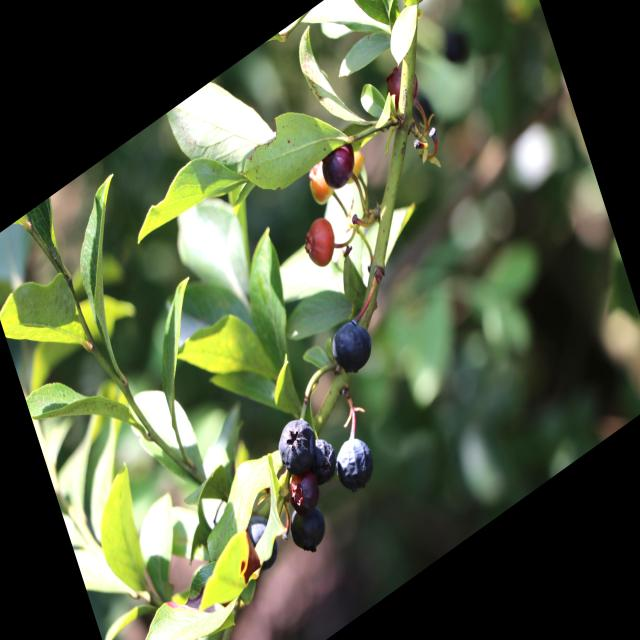blueberry: (325, 308, 380, 384), (328, 424, 378, 496), (282, 491, 330, 564), (315, 130, 364, 198), (271, 408, 318, 478)
blueberry-halfripe: (295, 208, 342, 280), (383, 53, 426, 117), (279, 458, 322, 521), (302, 154, 337, 212)
